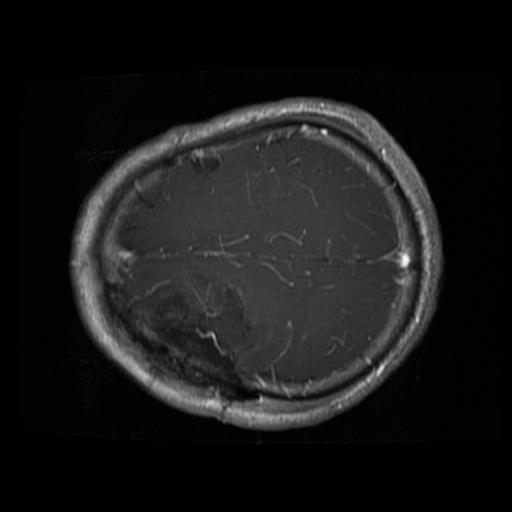glioma: (127, 271, 244, 379)
